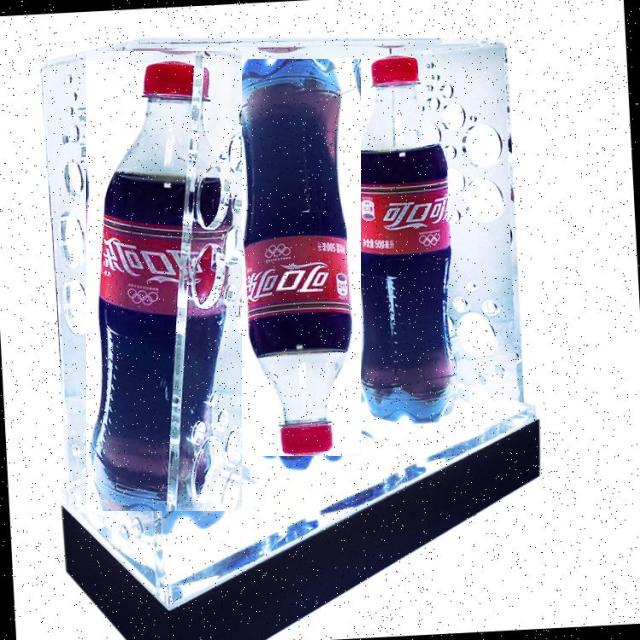coca-cola: (86, 51, 242, 511), (230, 59, 361, 456), (340, 49, 464, 428)
